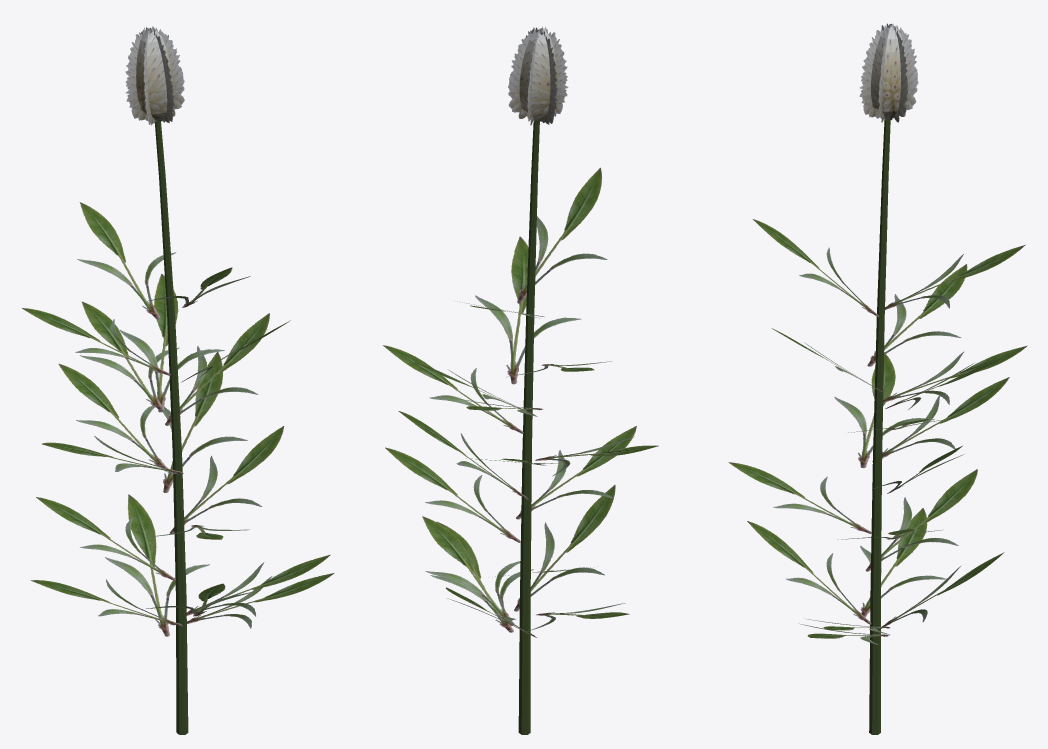
Rendered from category_mesh_flower_6.glb.
3 views of the same model, side by side, from view 1: azimuth 30°, elevation 25°; view 2: azimuth 150°, elevation 25°; view 3: azimuth 270°, elevation 25° (orthographic). The views are drawn at different scales.
Parts seen in each view (by area): view 1: category_mesh_flower_6; view 2: category_mesh_flower_6; view 3: category_mesh_flower_6.
Part boxes in pixels (box(x1,y1,x2,y2)): category_mesh_flower_6: box(22, 26, 334, 734); category_mesh_flower_6: box(383, 26, 658, 734); category_mesh_flower_6: box(728, 23, 1027, 734).
Size of the model in its own units: 0.1749 by 0.4203 by 0.1739.
1 material, 1 textured.
